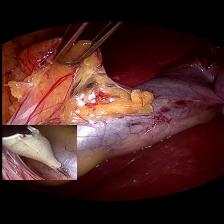Grasper: (45, 22, 124, 68)
Hook: (0, 125, 76, 180)
